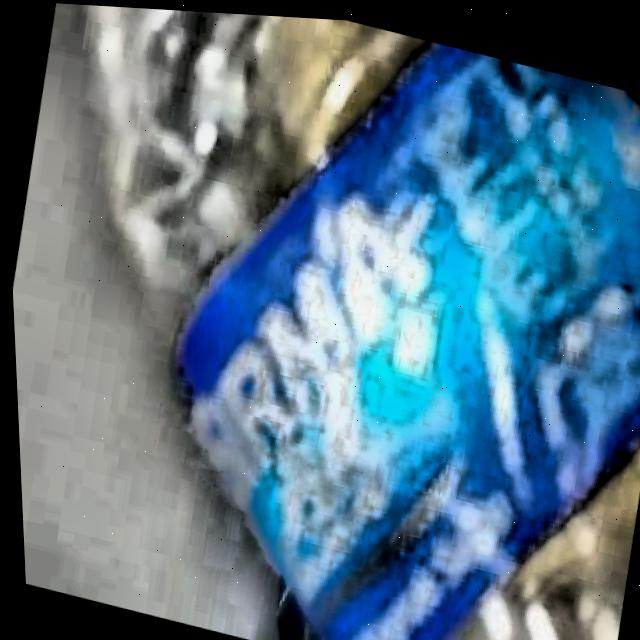plastic: (94, 4, 640, 640)
